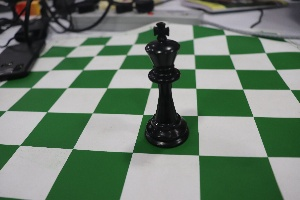black_king: (138, 17, 193, 151)
